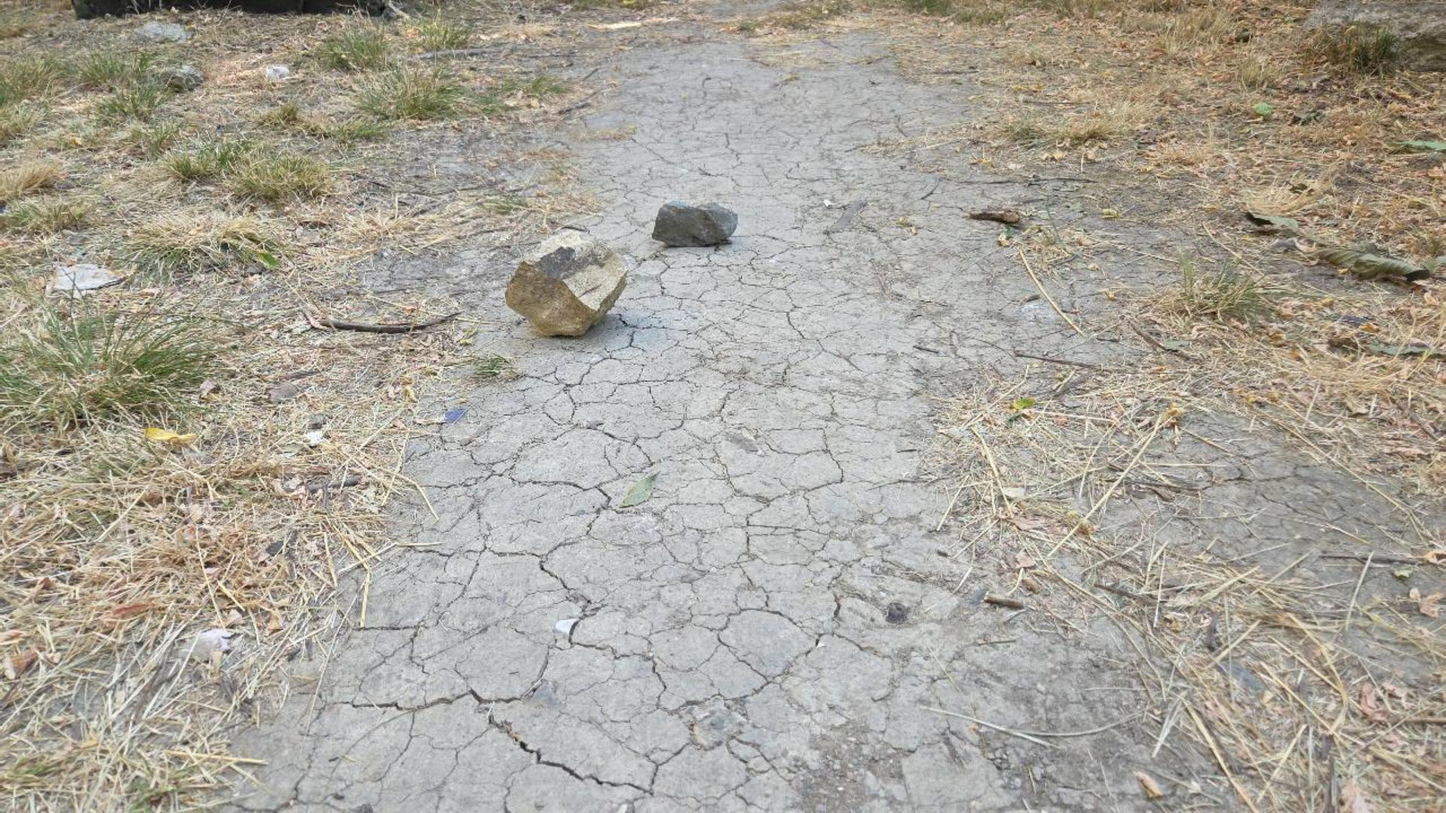rock: (505, 229, 626, 336), (652, 200, 737, 246), (133, 21, 188, 42), (160, 64, 202, 90), (263, 64, 290, 81)
